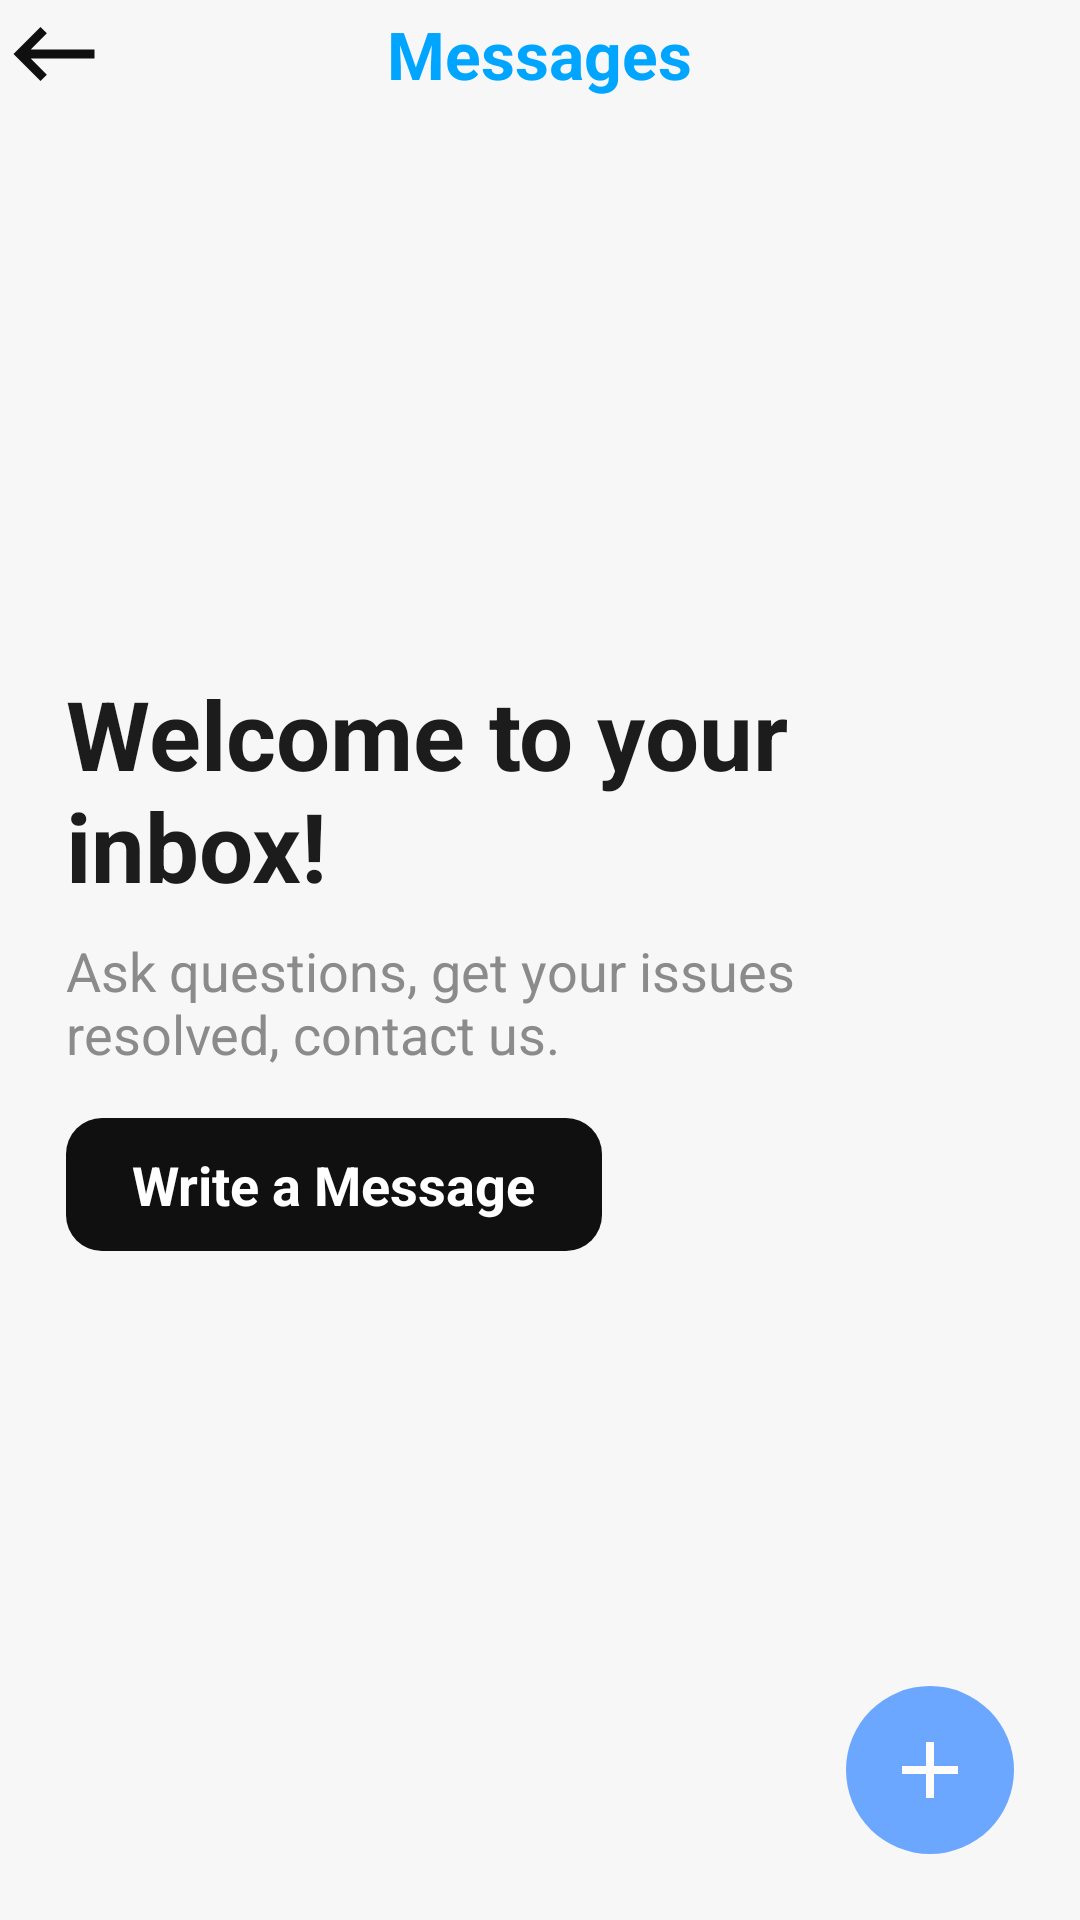

Where icons sit on this 1080px x 1920px app screen, as (x1, y1, x2, y2):
Add: (846, 1686, 1014, 1854)
back: (13, 27, 95, 81)
